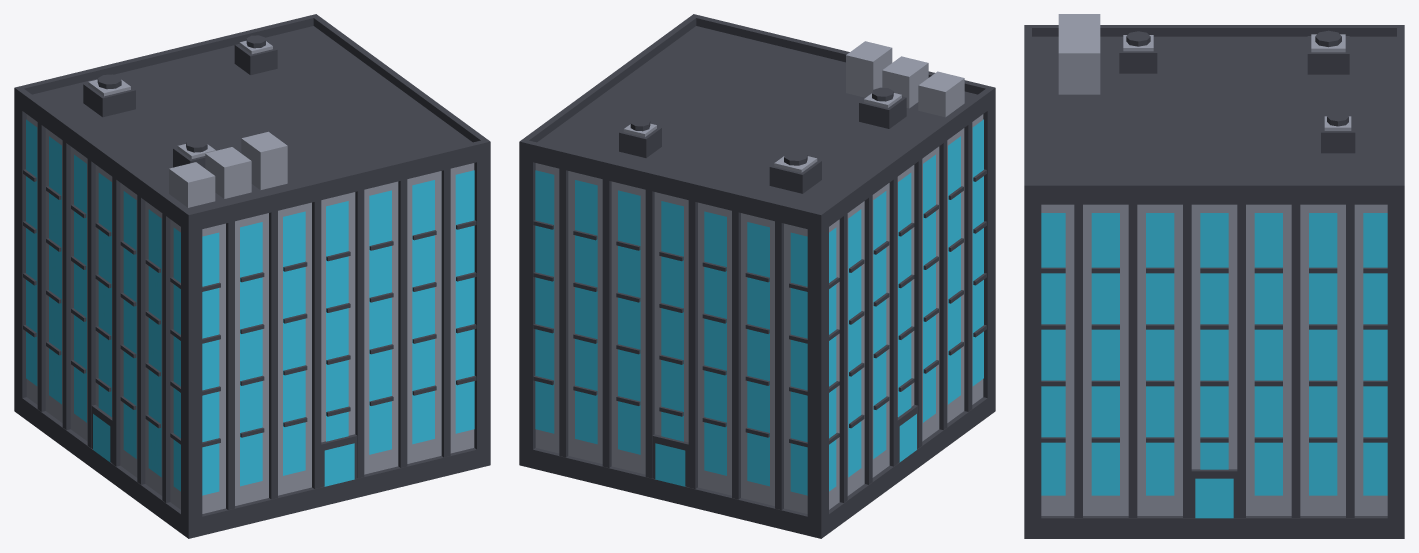
Rendered from building_fins.glb.
The picture shows the model from 3 angles, left to right: view 1: azimuth 30°, elevation 25°; view 2: azimuth 150°, elevation 25°; view 3: azimuth 270°, elevation 25°; orthographic projection. The views are drawn at different scales.
Visible parts, largest first — view 1: building_fins; view 2: building_fins; view 3: building_fins.
Part boxes in pixels (x1=…): building_fins: x1=14, y1=14, x2=490, y2=538; building_fins: x1=519, y1=14, x2=995, y2=538; building_fins: x1=1024, y1=14, x2=1404, y2=538.
Size of the model in its own units: 1 by 1.12 by 1.
